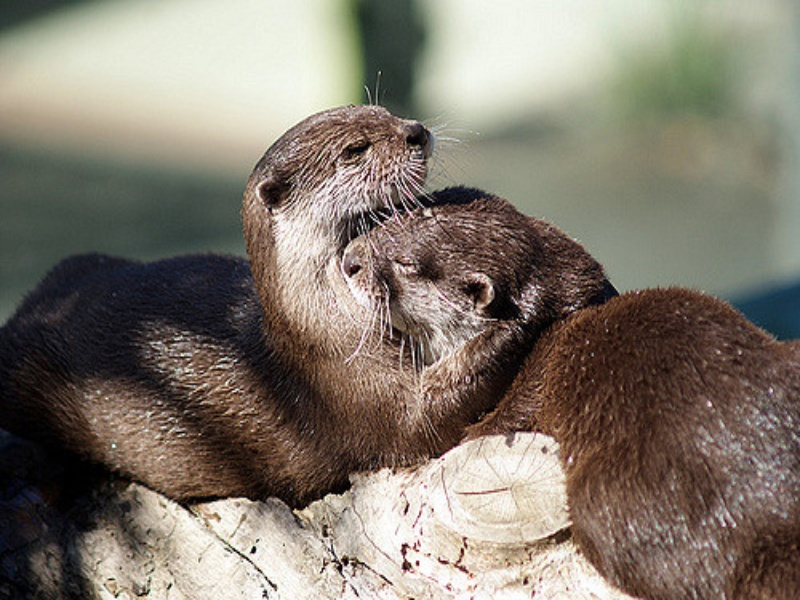minkish: (338, 185, 800, 593), (1, 87, 443, 507)
